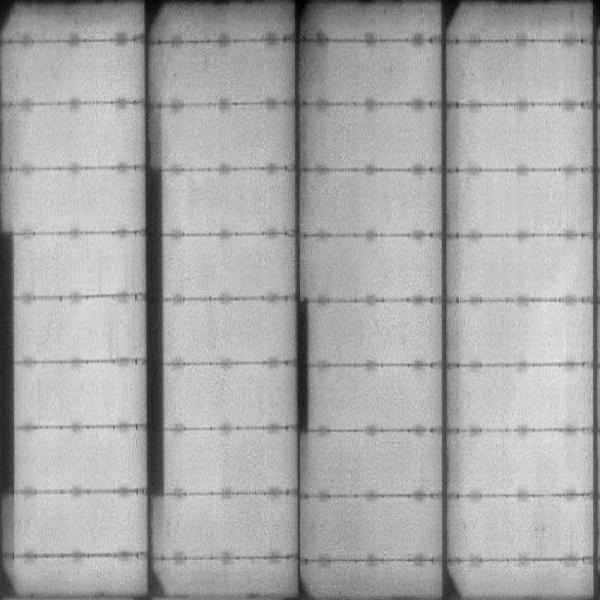black_border: (148, 110, 166, 501), (1, 226, 17, 539), (294, 296, 311, 441)
